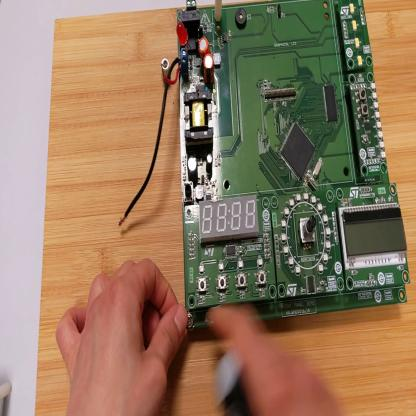hand: (57, 260, 191, 415), (208, 308, 346, 415)
low voltage board: (119, 3, 410, 328)
screwdriver-: (214, 354, 251, 413)
working area: (35, 2, 416, 414)
